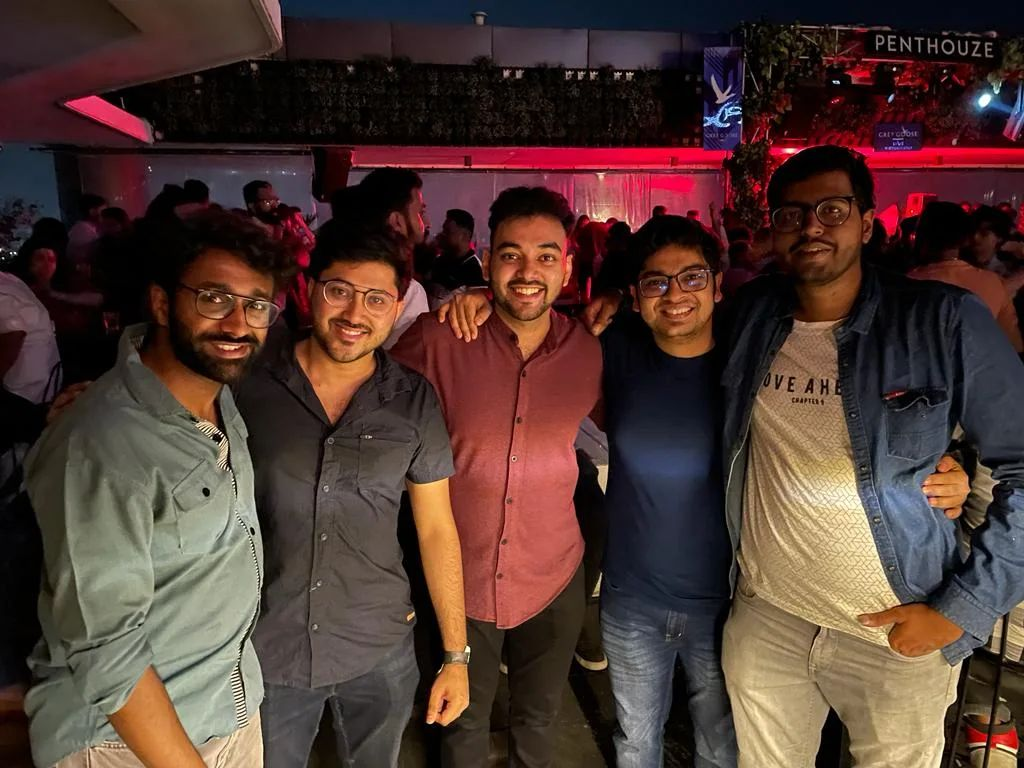without_mask: (185, 279, 275, 373), (770, 201, 858, 272), (318, 282, 396, 359), (637, 262, 711, 333), (494, 239, 563, 307)
